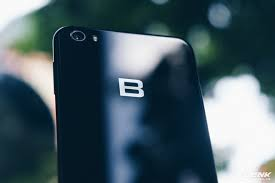bphone: (46, 22, 220, 183)
